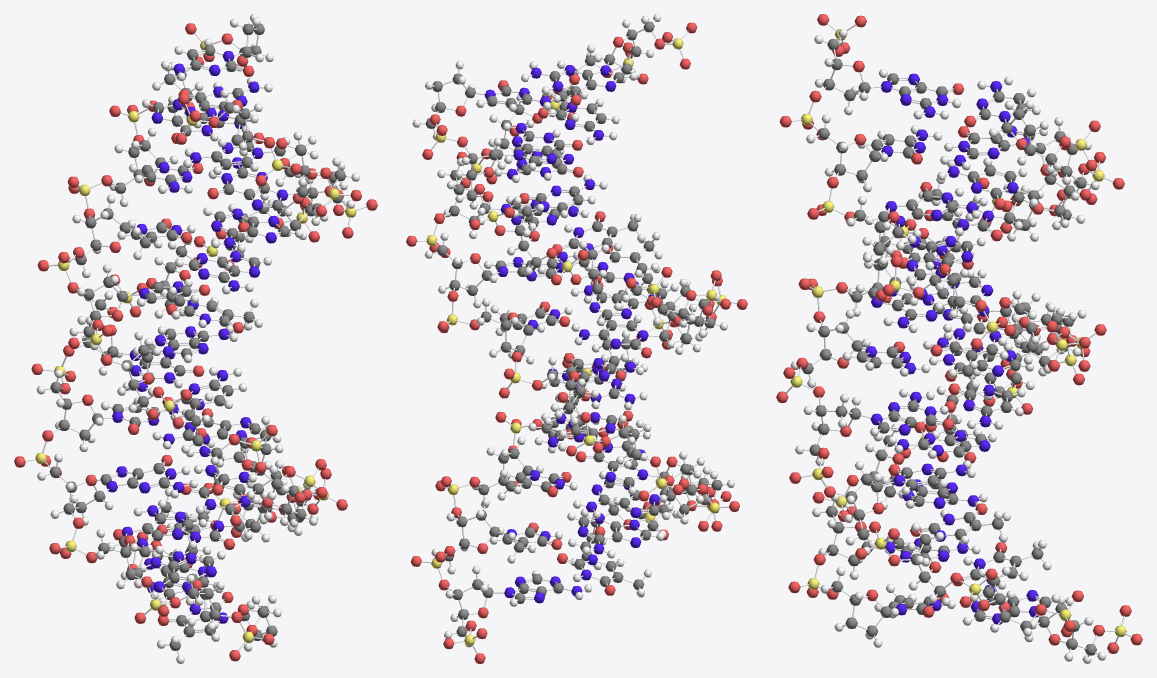
The model's file is dna_combined.fbx.
3 renders of one model, left to right at view 1: azimuth 30°, elevation 25°; view 2: azimuth 150°, elevation 25°; view 3: azimuth 270°, elevation 25°, orthographic. The views are drawn at different scales.
Visible parts, largest first — view 1: sphere_superlow_731; view 2: sphere_superlow_731; view 3: sphere_superlow_731.
Boxes of the visible parts, box(x1,y1,x2,y2) form: sphere_superlow_731: box(14, 14, 377, 663); sphere_superlow_731: box(406, 14, 747, 663); sphere_superlow_731: box(776, 14, 1142, 663).
Bounding box in the file's own units: 117 × 213 × 117.
